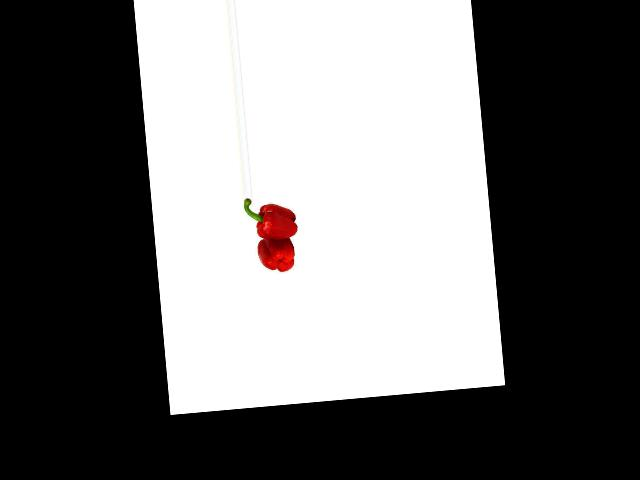bell_pepper: (254, 236, 298, 273)
